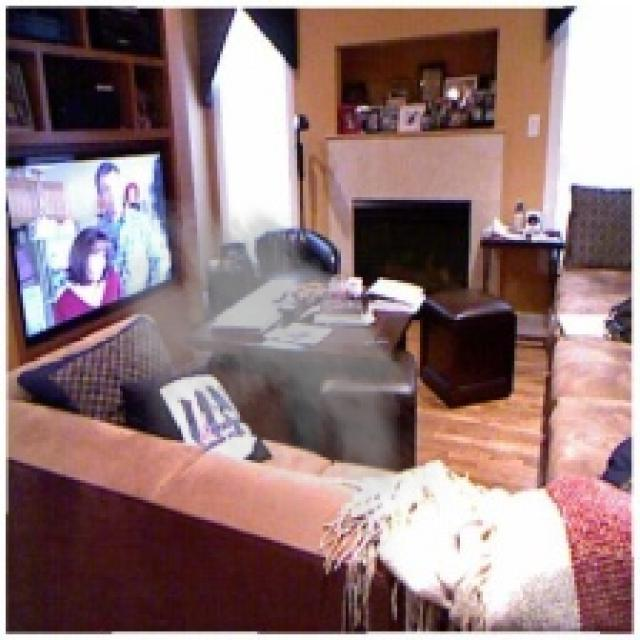Smoke: (89, 182, 452, 578)
